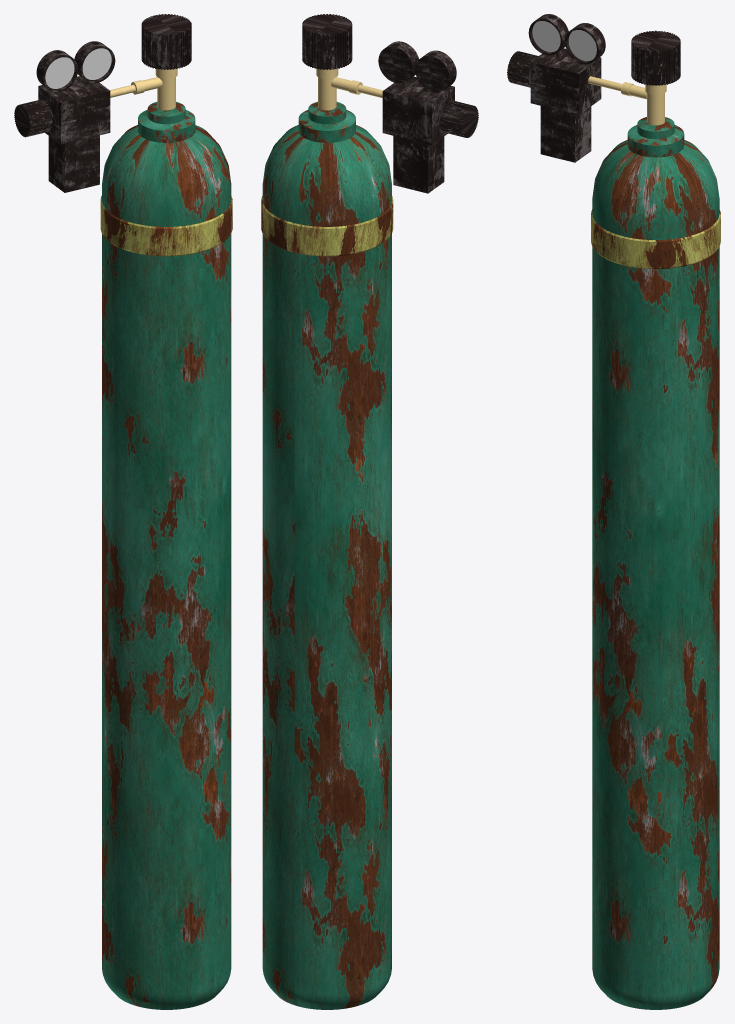
File: food.glb
3 renders of one model, left to right at view 1: azimuth 30°, elevation 25°; view 2: azimuth 150°, elevation 25°; view 3: azimuth 330°, elevation 25°, orthographic.
Parts seen in each view (by area): view 1: Circle.007; view 2: Circle.007; view 3: Circle.007.
Part boxes in pixels (<box>): Circle.007: <box>14,14,232,1009</box>; Circle.007: <box>261,14,478,1009</box>; Circle.007: <box>507,14,720,1009</box>.
Size of the model in its own units: 0.4038 by 1.85 by 0.23.
7 materials, 4 textured.
